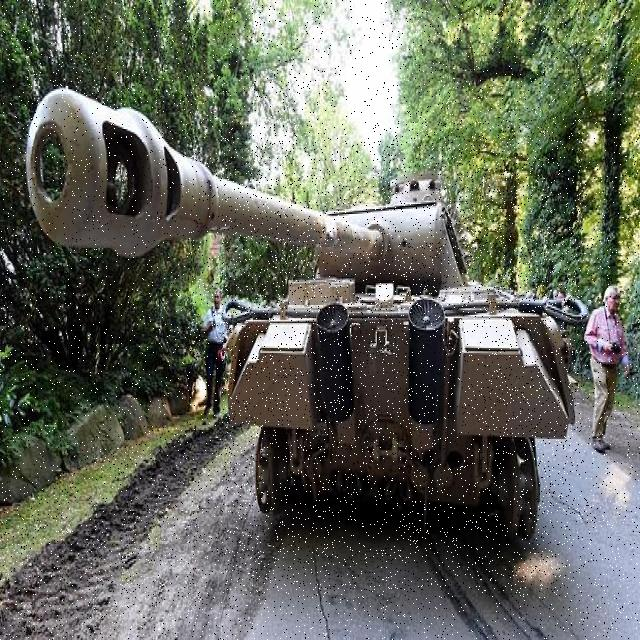MIL_MBT: (223, 121, 581, 592)
